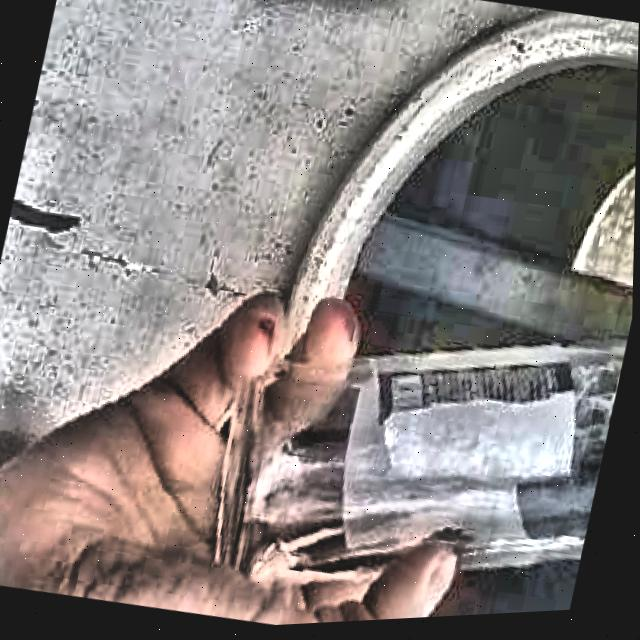glass: (217, 351, 628, 582)
